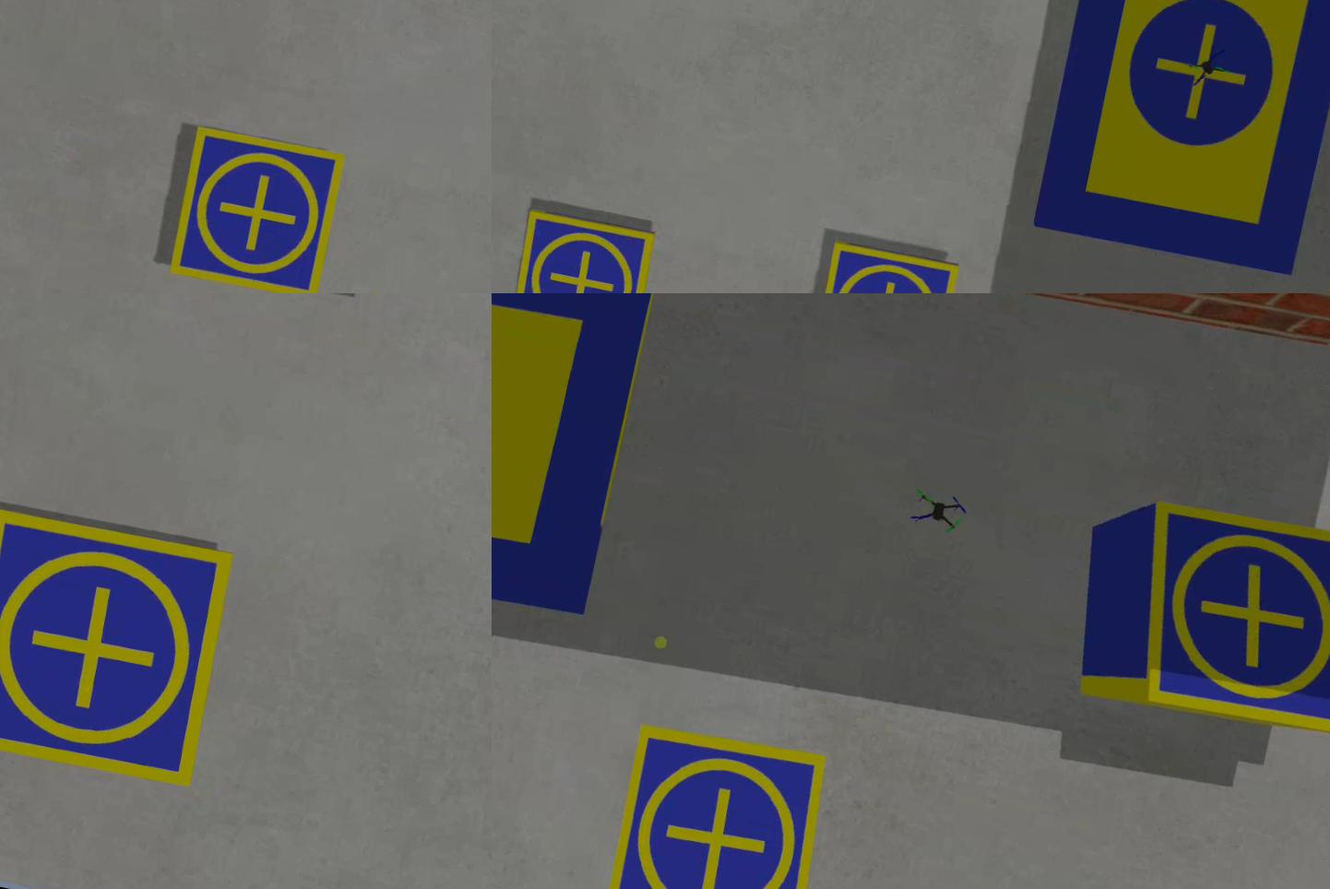large_base: (1031, 1, 1330, 285), (493, 294, 654, 631)
small_base: (1, 504, 240, 792), (1117, 499, 1330, 747), (599, 719, 838, 889), (166, 124, 351, 294), (505, 203, 660, 294), (808, 237, 965, 294)
